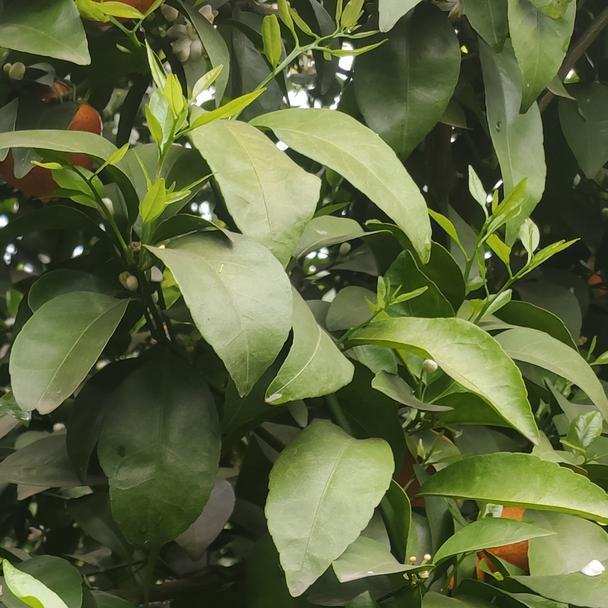shoot: (134, 56, 256, 204), (257, 2, 389, 76), (435, 170, 530, 268), (488, 223, 579, 297)
